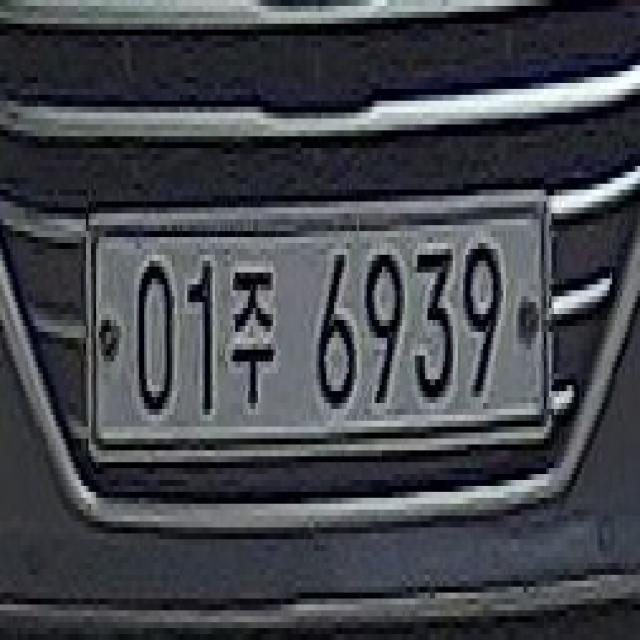0: (138, 240, 180, 434)
1: (182, 248, 220, 435)
3: (410, 227, 460, 412)
6: (316, 234, 360, 416)
9: (462, 228, 508, 413), (364, 226, 406, 406)
ju: (228, 245, 282, 422)
license_plate: (89, 185, 556, 472)
